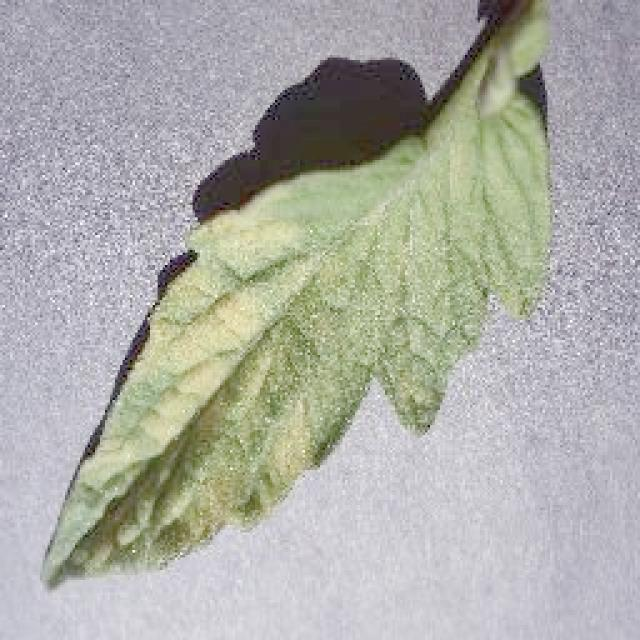Tomato mold leaf: (40, 93, 554, 590)
